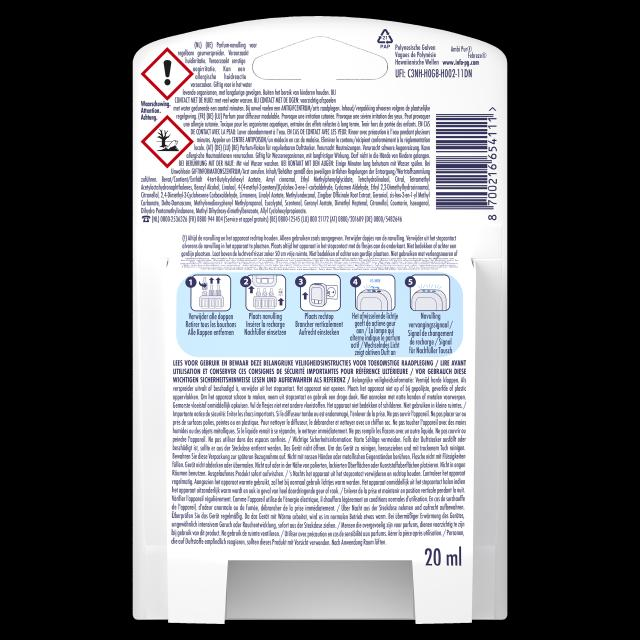GHS_Symbol_ENVIRONMENT: (139, 114, 193, 168)
GHS_Symbol_EXCLAMATION_MARK: (141, 46, 194, 101)
